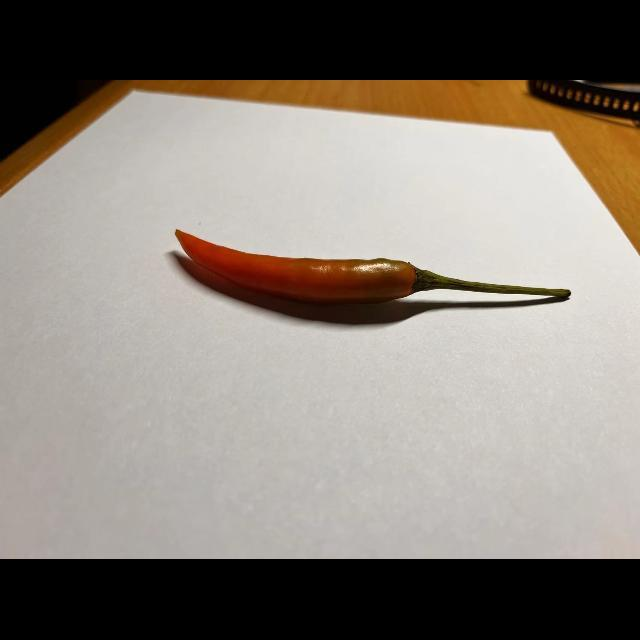chili_pepper: (162, 218, 582, 332)
